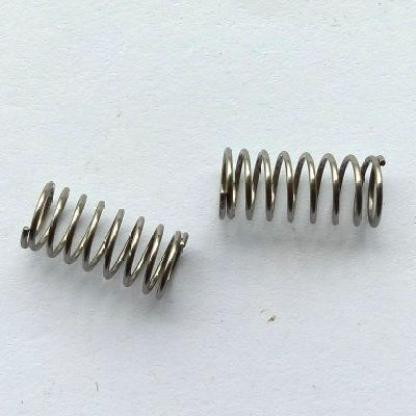FOD: (15, 175, 194, 307), (208, 144, 390, 228)
